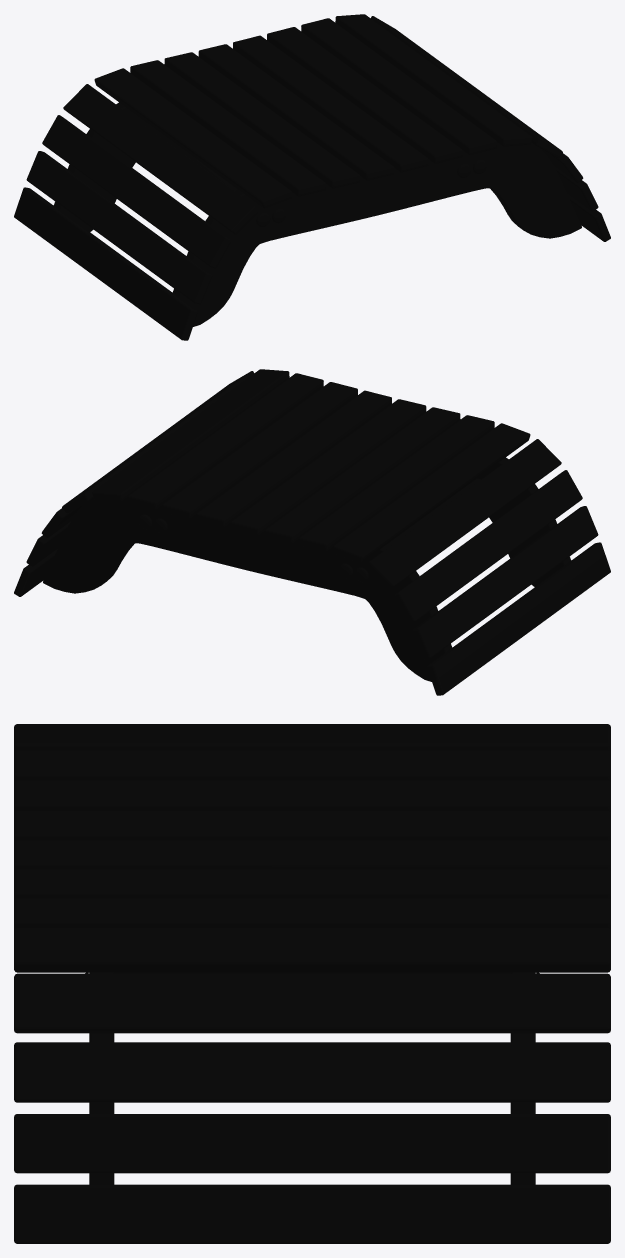
File: Bakin2.glb
3 views of the same model, one above another, from view 1: azimuth 30°, elevation 25°; view 2: azimuth 150°, elevation 25°; view 3: azimuth 270°, elevation 25° (orthographic). The views are drawn at different scales.
Visible parts, largest first — view 1: Plane.007; view 2: Plane.007; view 3: Plane.007.
Part boxes in pixels (x1,y1,x2,y2): Plane.007: (14, 14, 610, 340); Plane.007: (14, 369, 610, 695); Plane.007: (14, 724, 610, 1243).
Size of what is drawn, in the model's own units: 2.18 by 0.6493 by 1.48.
Materials: 1 (1 with a texture image).
